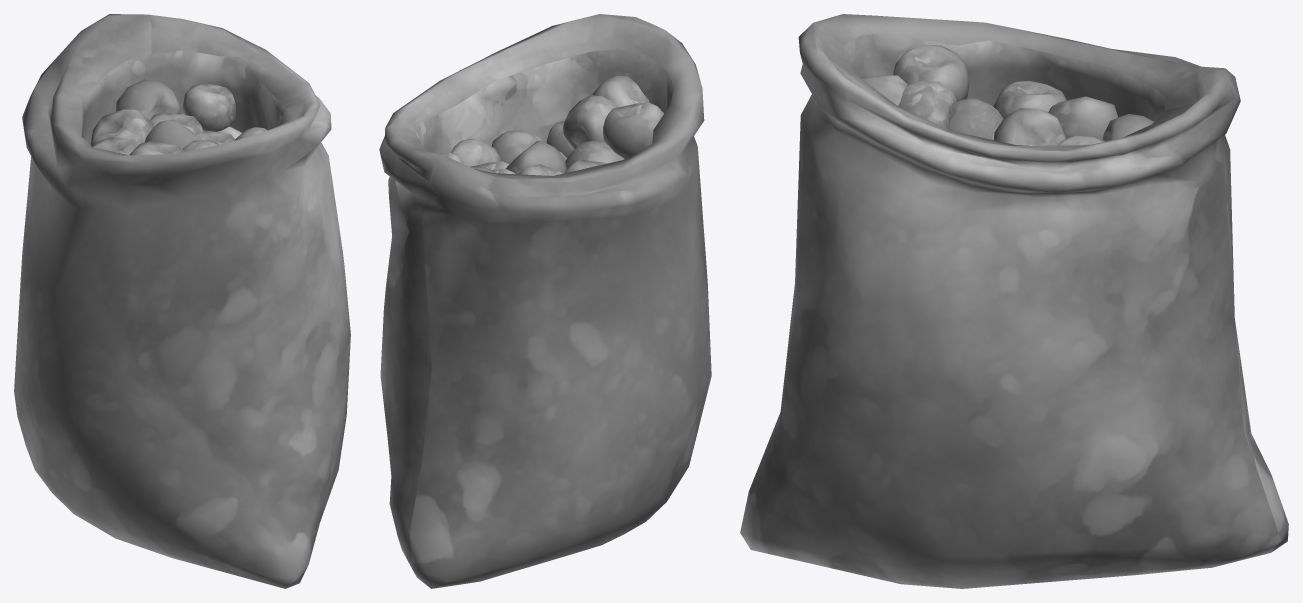
The model's file is SM_Sack_Apple_01a.fbx.
3 views of the same model, side by side, from view 1: azimuth 30°, elevation 25°; view 2: azimuth 150°, elevation 25°; view 3: azimuth 270°, elevation 25° (orthographic). The views are drawn at different scales.
Visible parts, largest first — view 1: SM_Sack_Apple_01a_LOD0; view 2: SM_Sack_Apple_01a_LOD0; view 3: SM_Sack_Apple_01a_LOD0.
Boxes of the visible parts, left/top/right/bottom form: SM_Sack_Apple_01a_LOD0: left=14, top=14, right=350, bottom=588; SM_Sack_Apple_01a_LOD0: left=379, top=14, right=711, bottom=588; SM_Sack_Apple_01a_LOD0: left=740, top=14, right=1288, bottom=588.
Size of the model in its own units: 65.83 by 94.51 by 97.29.
